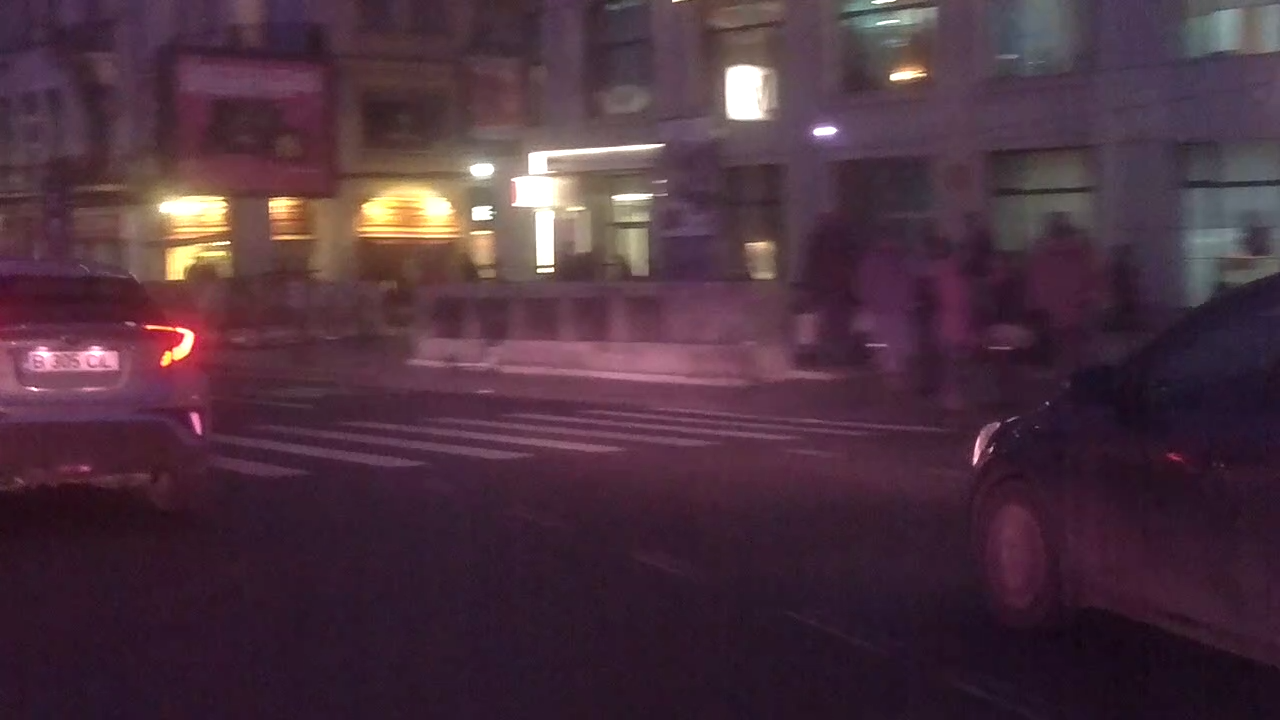license-plate: (19, 345, 123, 374)
